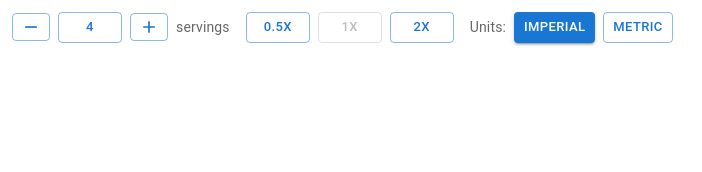
Test case: ServingsScaler Component › Manual servings input › should reset input value if invalid on blur
Click the button "4": (90, 27) x1=58 y1=12 x2=122 y2=43
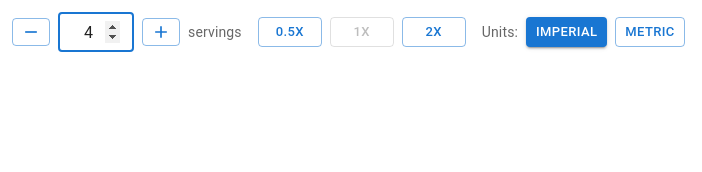
Replace the text in the number field with "abc": (96, 32) x1=58 y1=12 x2=134 y2=52
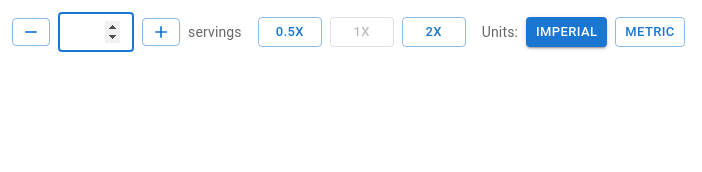
Press Tab
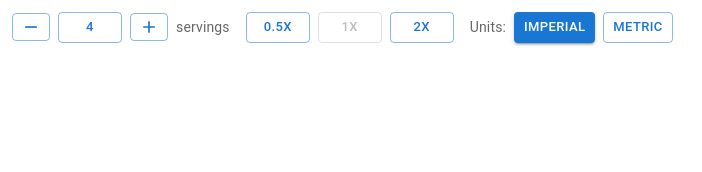
Expected: the button "4" is shown, x1=58 y1=12 x2=122 y2=43
